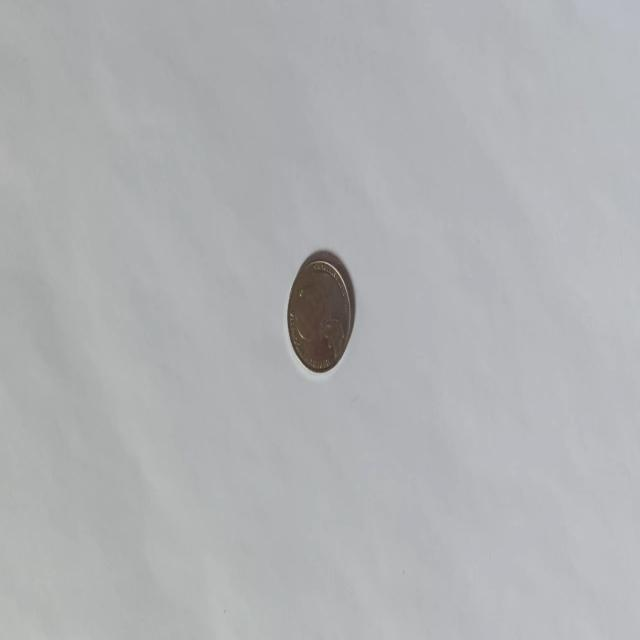seribu rupiah koin: (286, 248, 354, 374)
